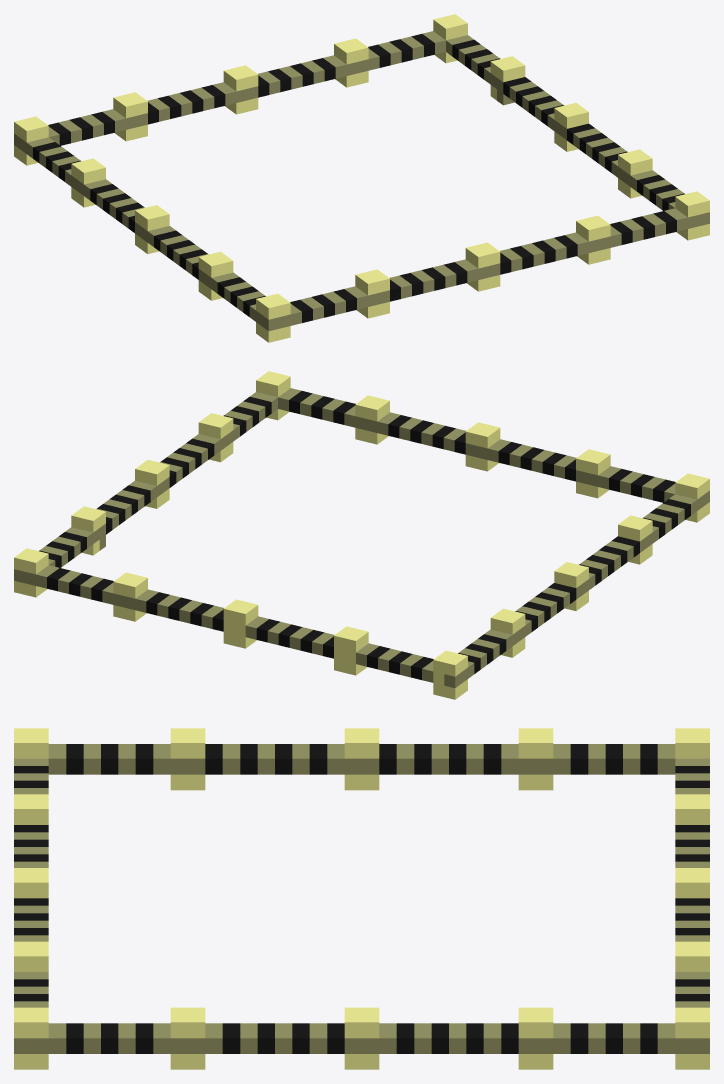
File: GridBoarderWithRope.obj
3 views of the same model, one above another, from view 1: azimuth 30°, elevation 25°; view 2: azimuth 150°, elevation 25°; view 3: azimuth 270°, elevation 25° (orthographic). The views are drawn at different scales.
Bounding box in the file's own units: 40 × 3 × 40.
1 material, 1 textured.
